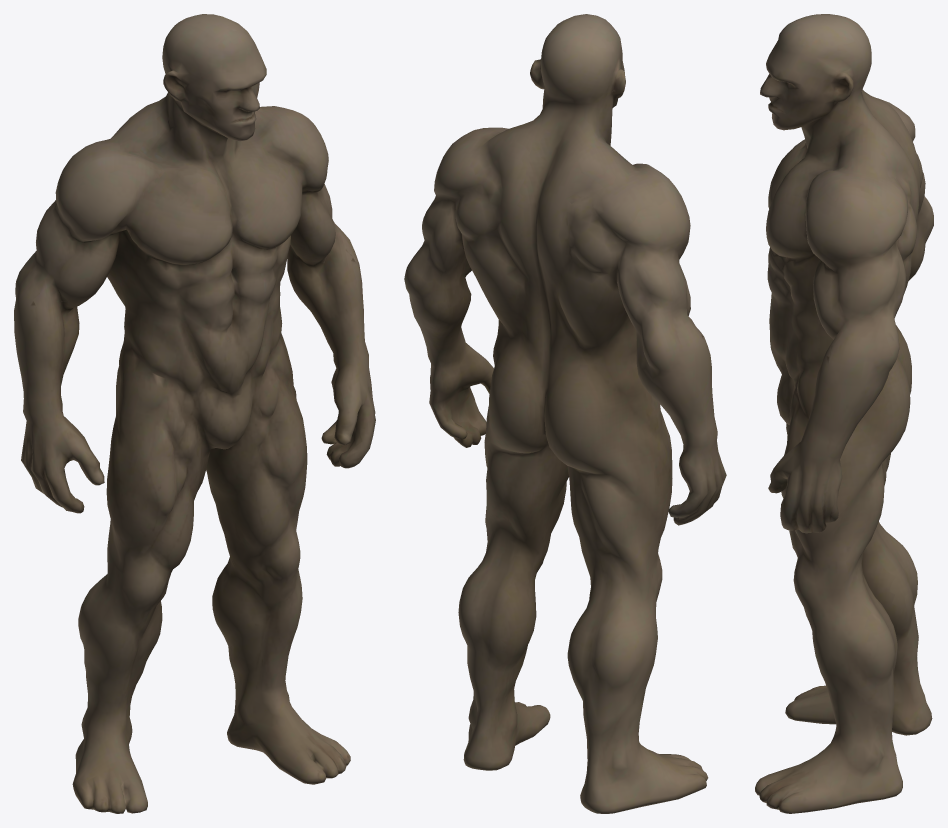
The model's file is rocky_outcrop_90599d8a_v3.glb.
3 renders of one model, left to right at view 1: azimuth 30°, elevation 25°; view 2: azimuth 150°, elevation 25°; view 3: azimuth 270°, elevation 25°, orthographic. The views are drawn at different scales.
Visible parts, largest first — view 1: material; view 2: material; view 3: material.
Boxes of the visible parts, x1,y1,x2,y2 form: material: (14, 14, 375, 813); material: (404, 14, 726, 813); material: (755, 14, 933, 813).
Size of the model in its own units: 0.8377 by 1.9 by 0.4159.
1 material, 1 textured.
